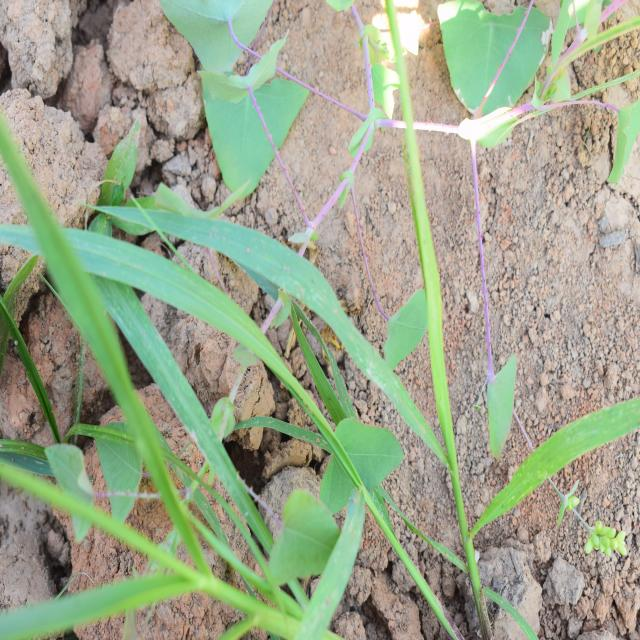green_foxtail: (15, 153, 410, 602)
